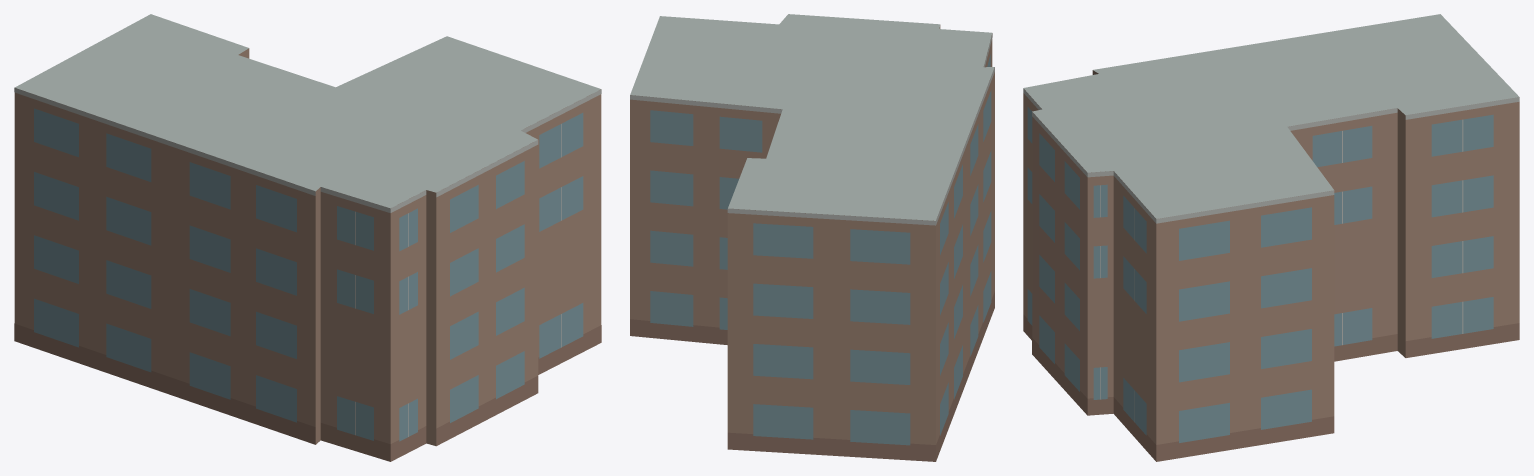
Rendered from survey-upis-32477827.glb.
3 views of the same model, side by side, from view 1: azimuth 30°, elevation 25°; view 2: azimuth 150°, elevation 25°; view 3: azimuth 270°, elevation 25° (orthographic). The views are drawn at different scales.
Parts seen in each view (by area): view 1: survey-upis-32477827.tmp; view 2: survey-upis-32477827.tmp; view 3: survey-upis-32477827.tmp.
Part boxes in pixels (<box>): survey-upis-32477827.tmp: <box>14,14,601,461</box>; survey-upis-32477827.tmp: <box>630,14,994,461</box>; survey-upis-32477827.tmp: <box>1023,14,1519,461</box>.
Bounding box in the file's own units: 23 × 12.7 × 23.53.
